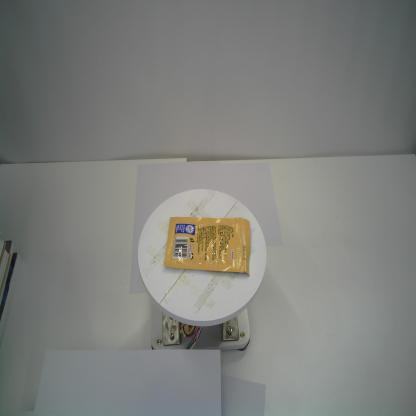Seasoner: (162, 215, 252, 276)
